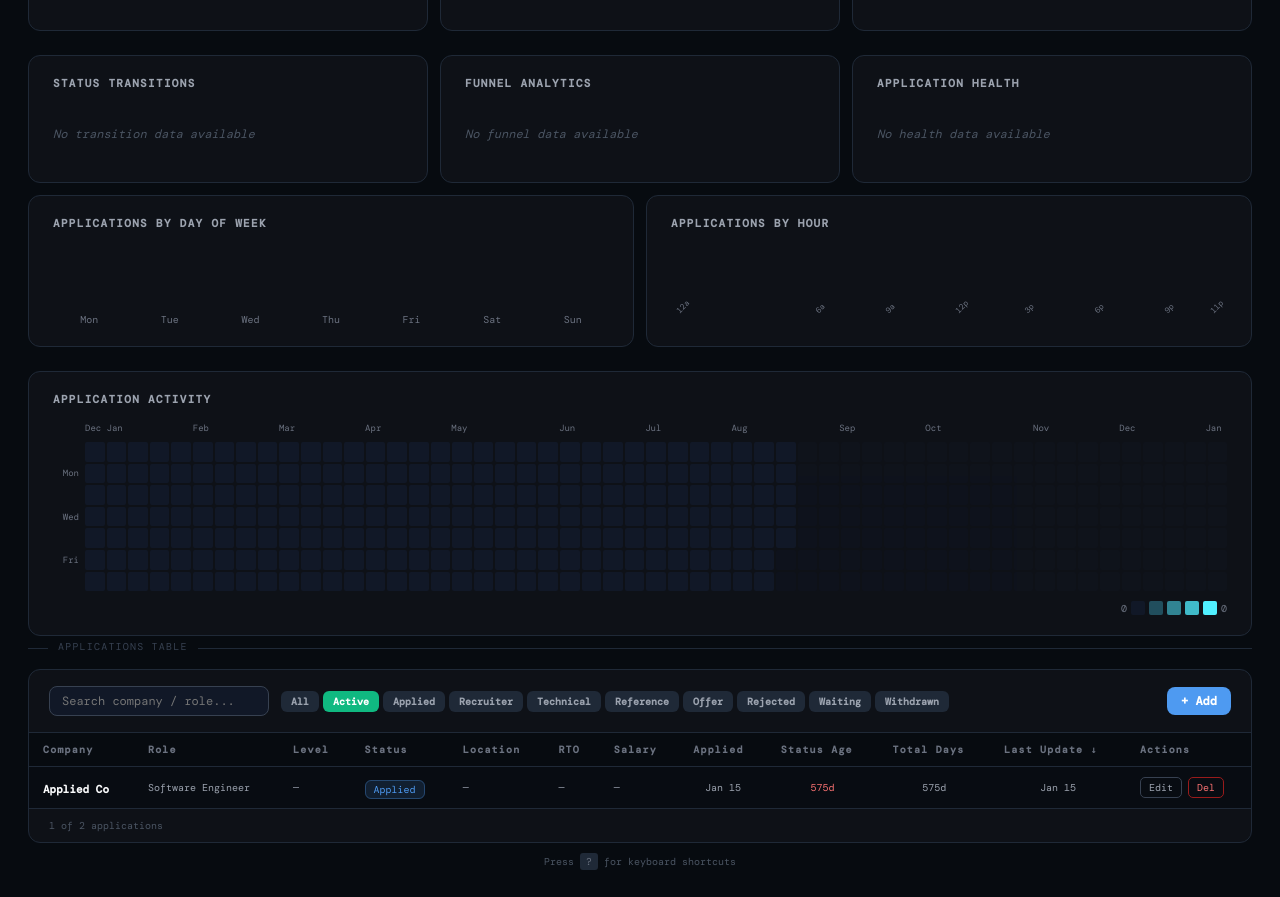
JobTracker (Dashboard) › Filter switching › should switch back to Active filter
(page scrolled)
expect the table is shown: met, box [29,733,1251,808]
Switch to All
What coordinates should you click on to do the following:
click the button "All"
I would click on:
 (300, 701)
Its box is [281,691,319,712].
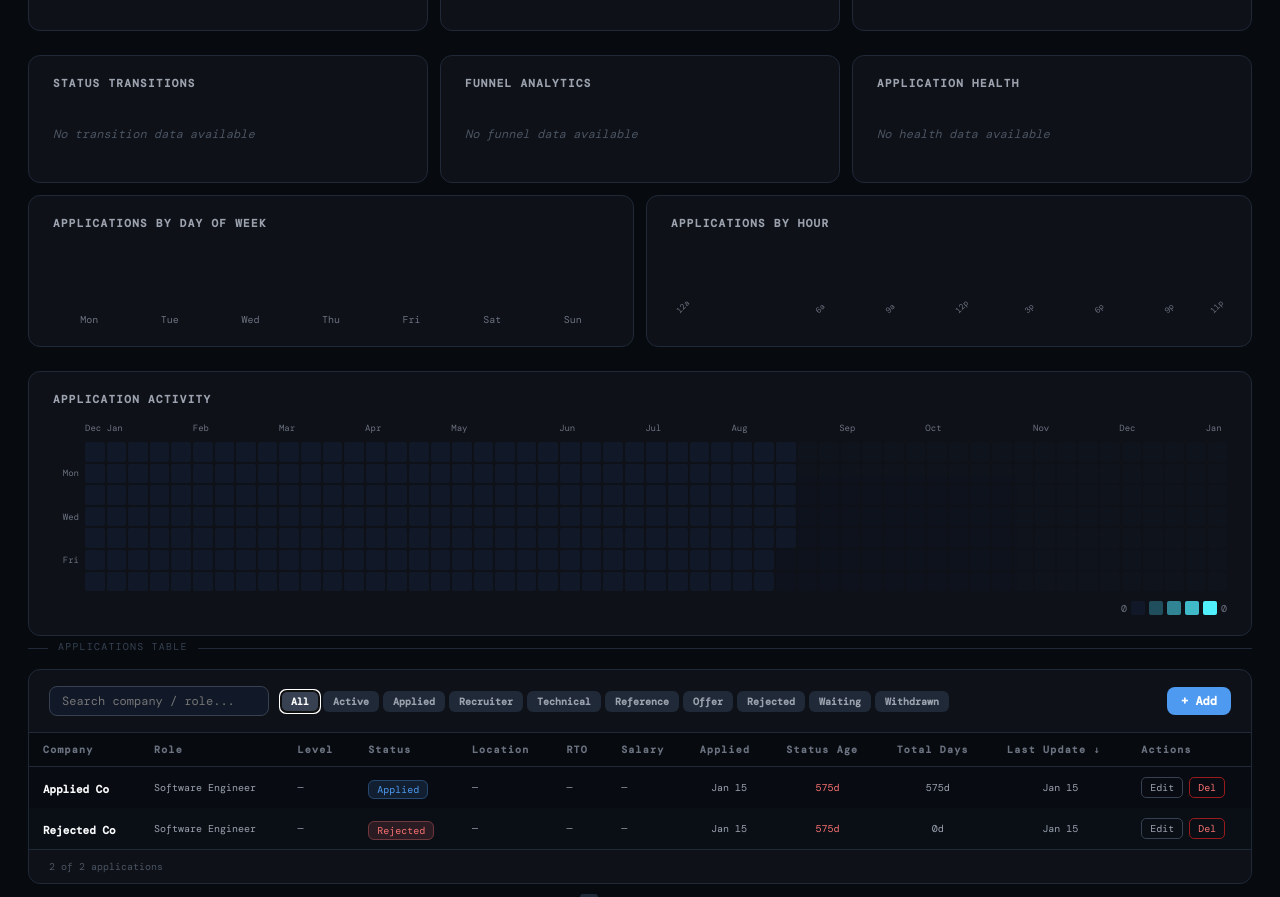
expect the text "Rejected Co" is shown: met, box [43,823,116,837]
Switch back to Active
What coordinates should you click on to do the following:
click the button "Active"
I would click on:
 (351, 701)
Its box is [323,691,379,712].
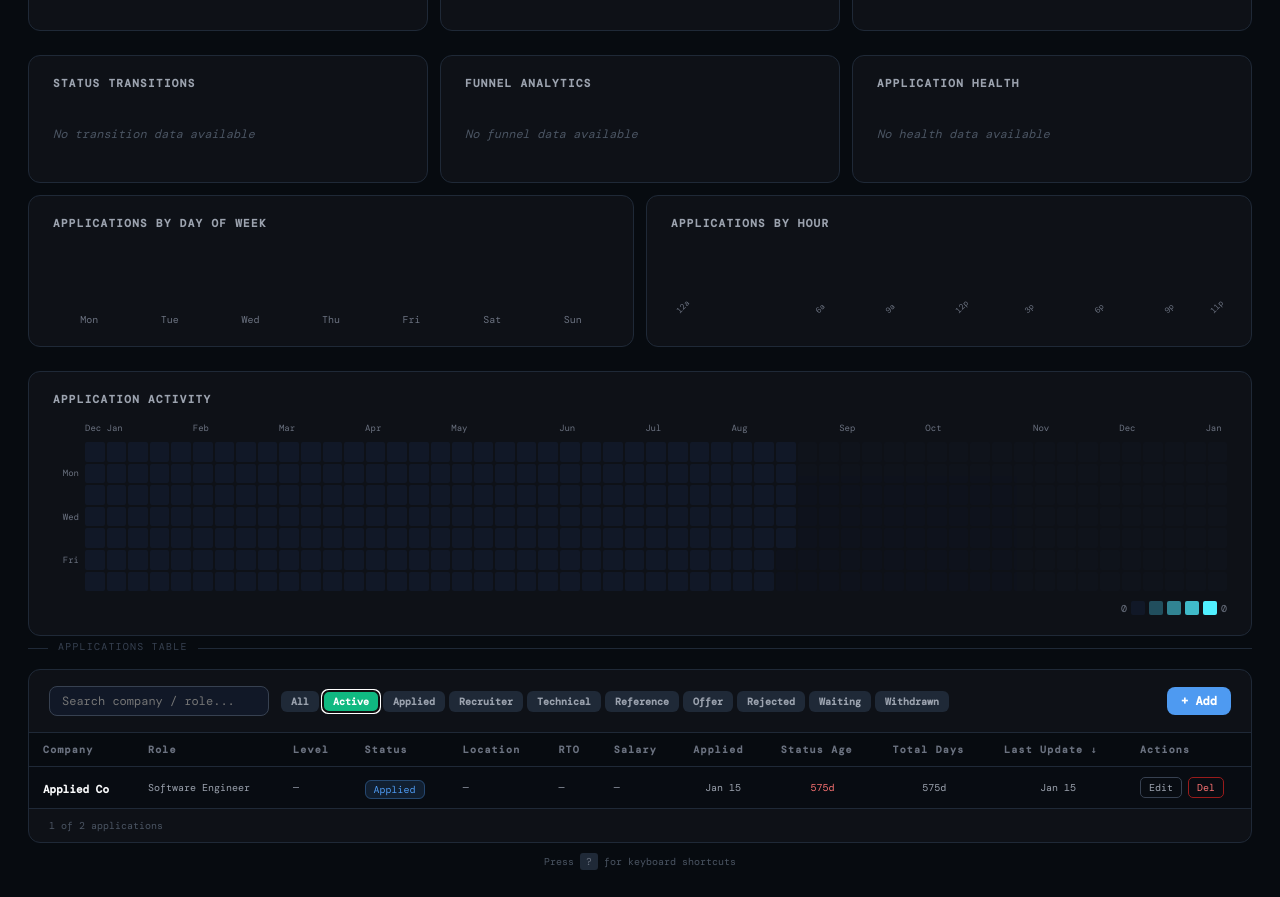
expect the text "Applied Co" is shown: met, box [43,782,109,796]
expect the text "Rejected Co" is gone: met
